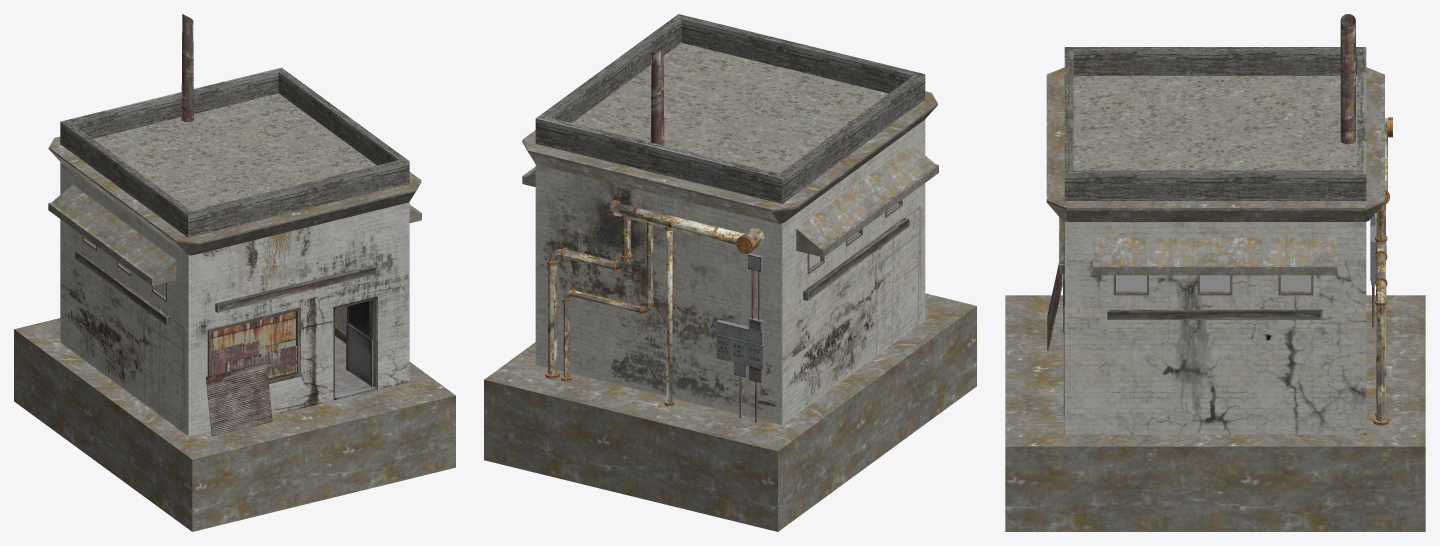
The model's file is GeneratorShed.obj.
3 renders of one model, left to right at view 1: azimuth 30°, elevation 25°; view 2: azimuth 150°, elevation 25°; view 3: azimuth 270°, elevation 25°, orthographic. The views are drawn at different scales.
Parts seen in each view (by area): view 1: Cube.001, Cube.002, Cube.016, Cube.010, Door, Cube.007, Cylinder.050, Cube.015, Cube.003, Cube.014, Cube, Cube.012; view 2: Cube.001, Cube.004, Cube.002, Cube.063, Cube.003, Cylinder.050; view 3: Cube.001, Cube.011, Cube.004, Cube.013, Cylinder.050, Cube.016, Cube.063, Cube.005, Cube.029, Cube.027.
Part boxes in pixels (x1=…): Cube.001: x1=14, y1=67, x2=455, y2=531; Cube.002: x1=48, y1=184, x2=176, y2=285; Cube.016: x1=206, y1=362, x2=272, y2=436; Cube.010: x1=211, y1=311, x2=295, y2=354; Door: x1=346, y1=300, x2=373, y2=386; Cube.007: x1=215, y1=265, x2=375, y2=312; Cylinder.050: x1=181, y1=14, x2=193, y2=121; Cube.015: x1=225, y1=345, x2=296, y2=380; Cube.003: x1=75, y1=250, x2=170, y2=324; Cube.014: x1=207, y1=307, x2=300, y2=398; Cube: x1=333, y1=296, x2=377, y2=400; Cube.012: x1=211, y1=339, x2=259, y2=375; Cube.001: x1=484, y1=14, x2=976, y2=531; Cube.004: x1=545, y1=200, x2=754, y2=406; Cube.002: x1=796, y1=144, x2=938, y2=257; Cube.063: x1=716, y1=253, x2=765, y2=422; Cube.003: x1=803, y1=217, x2=909, y2=300; Cylinder.050: x1=650, y1=46, x2=664, y2=145; Cube.001: x1=1005, y1=47, x2=1425, y2=531; Cube.011: x1=1092, y1=237, x2=1337, y2=275; Cube.004: x1=1373, y1=117, x2=1392, y2=425; Cube.013: x1=1107, y1=309, x2=1322, y2=319; Cylinder.050: x1=1340, y1=14, x2=1355, y2=144; Cube.016: x1=1047, y1=263, x2=1062, y2=350; Cube.063: x1=1370, y1=213, x2=1376, y2=327; Cube.005: x1=1199, y1=275, x2=1230, y2=291; Cube.029: x1=1280, y1=275, x2=1311, y2=291; Cube.027: x1=1116, y1=275, x2=1146, y2=291.
Size of the model in its own units: 12.17 by 16.25 by 13.92.
3 materials, 2 textured.
